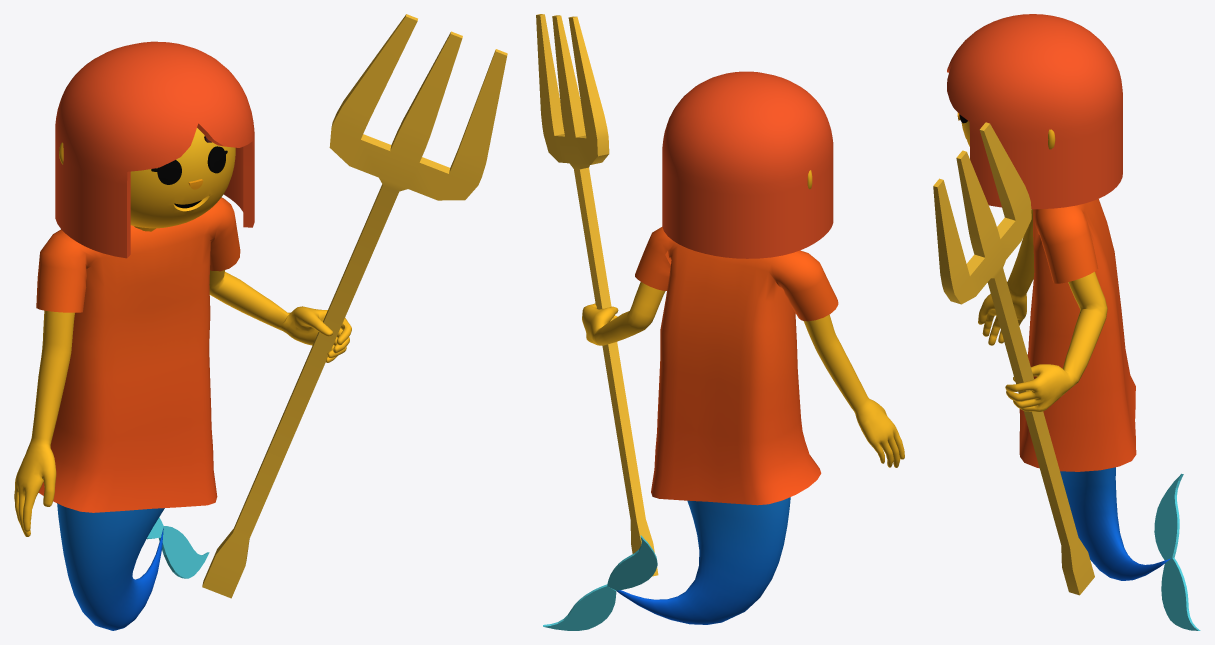
The model's file is merwoman.fbx.
3 views of the same model, side by side, from view 1: azimuth 30°, elevation 25°; view 2: azimuth 150°, elevation 25°; view 3: azimuth 270°, elevation 25° (orthographic). The views are drawn at different scales.
Visible parts, largest first — view 1: Circle.1053, Roundcube.224, Cube.2649, Sphere.177, Roundcube.223, Plane.091, Circle.1055; view 2: Circle.1053, Roundcube.224, Cube.2649, Sphere.177, Plane.091; view 3: Circle.1053, Roundcube.224, Cube.2649, Sphere.177, Plane.091.
Part boxes in pixels (left/top/right/bottom): Circle.1053: left=14, top=197, right=351, bottom=536; Roundcube.224: left=55, top=41, right=254, bottom=258; Cube.2649: left=202, top=14, right=507, bottom=598; Sphere.177: left=57, top=503, right=164, bottom=630; Roundcube.223: left=130, top=128, right=235, bottom=231; Plane.091: left=146, top=517, right=209, bottom=578; Circle.1055: left=157, top=146, right=225, bottom=184; Circle.1053: left=582, top=227, right=904, bottom=505; Roundcube.224: left=662, top=71, right=833, bottom=258; Cube.2649: left=536, top=14, right=658, bottom=576; Sphere.177: left=616, top=497, right=790, bottom=624; Plane.091: left=543, top=535, right=657, bottom=630; Circle.1053: left=978, top=199, right=1136, bottom=471; Roundcube.224: left=947, top=14, right=1122, bottom=209; Cube.2649: left=933, top=122, right=1094, bottom=595; Sphere.177: left=1060, top=467, right=1170, bottom=580; Plane.091: left=1154, top=473, right=1200, bottom=630.
Size of the model in its own units: 166 by 212 by 93.67.
2 materials, 2 textured.
